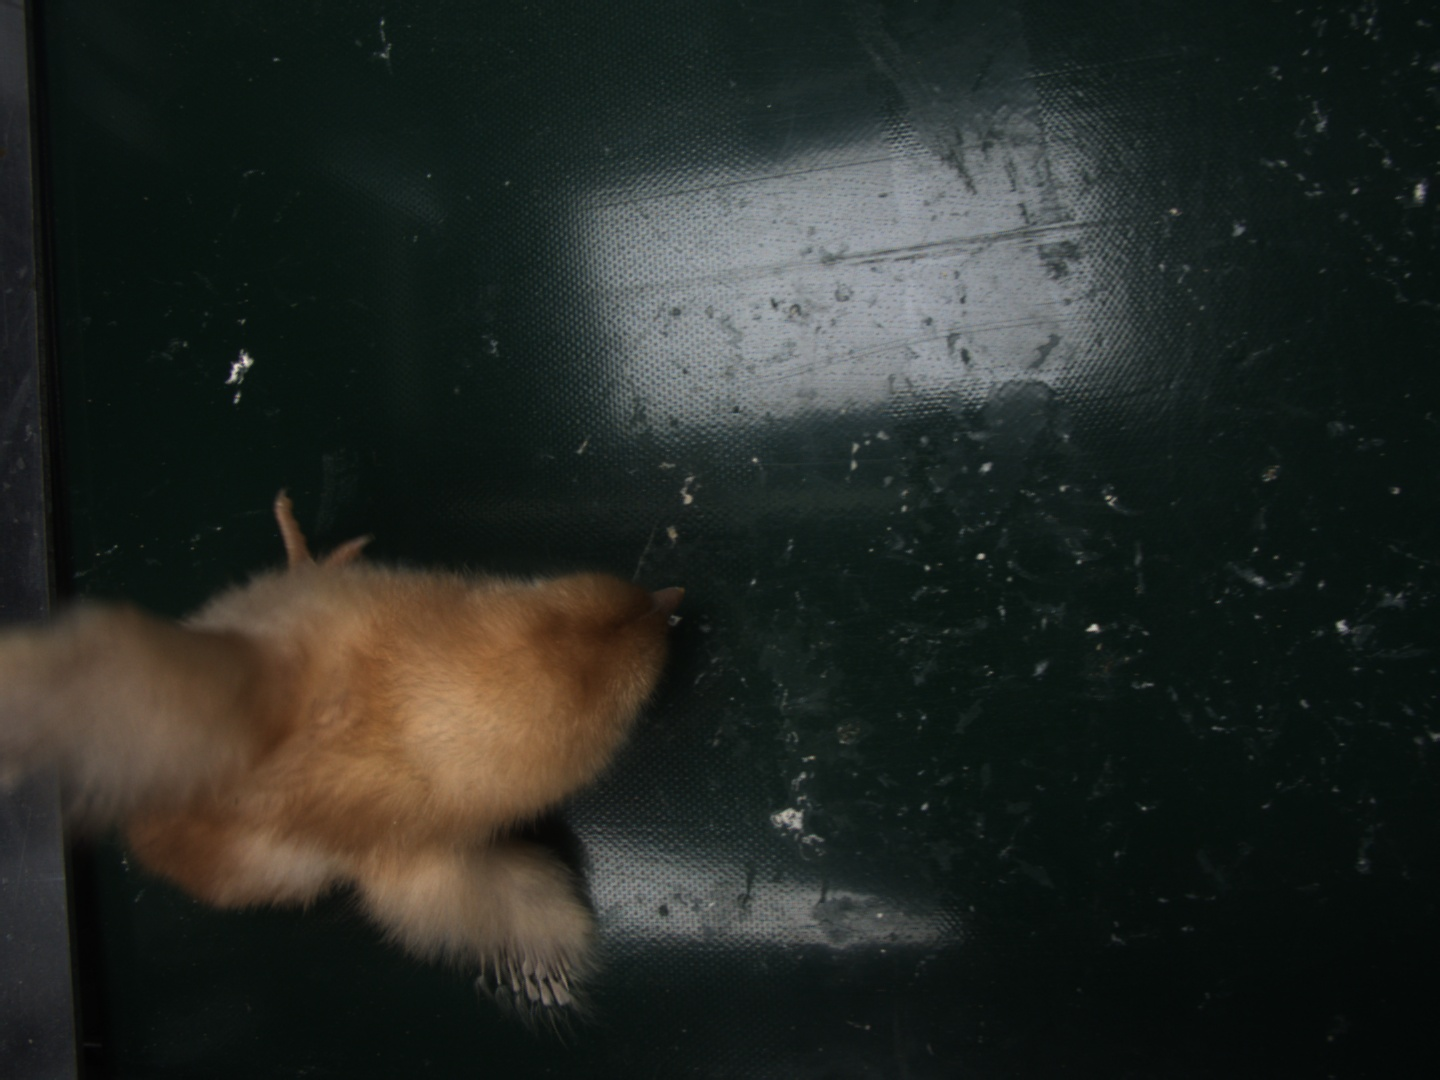female: (475, 945, 577, 1006)
